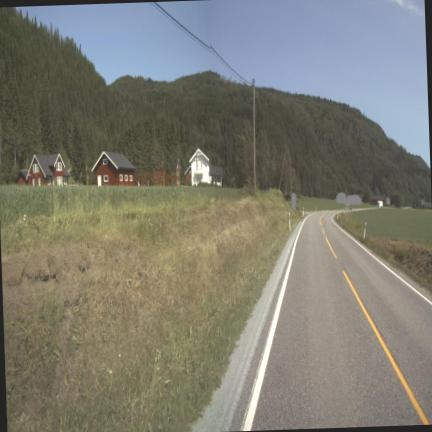Road: (221, 213, 431, 430)
